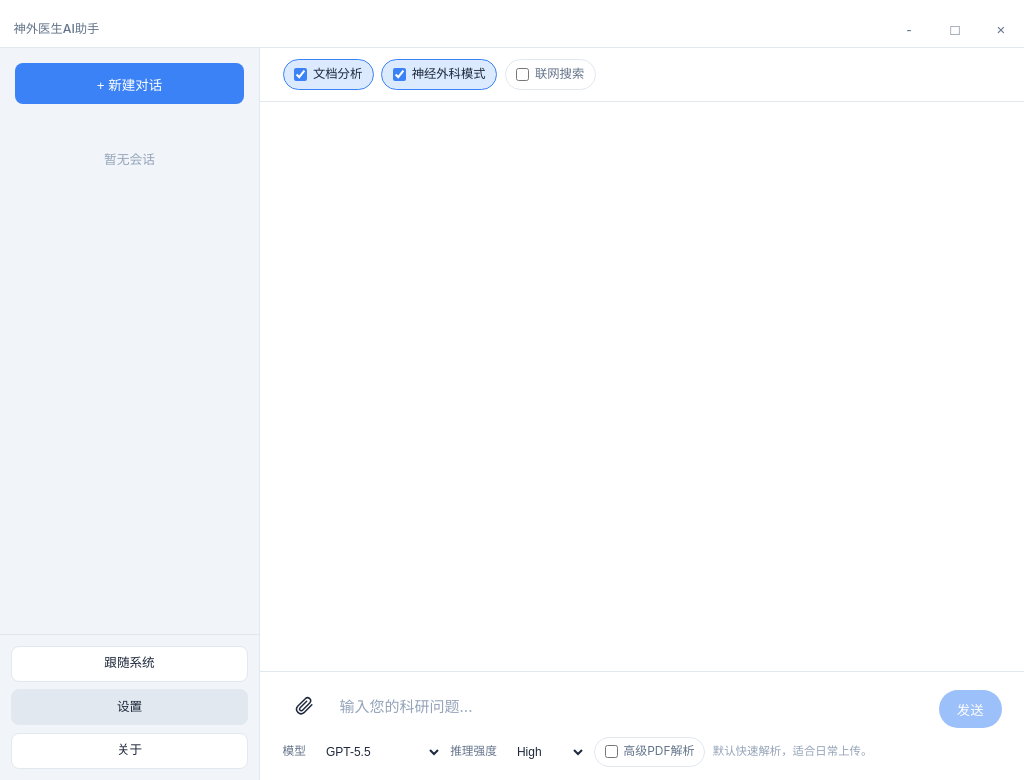
Scenario: App settings controls › shows Chinese PubMed query guidance when searching from a Chinese question
Click the text "联网搜索" at (550, 74), box [504, 59, 596, 90]
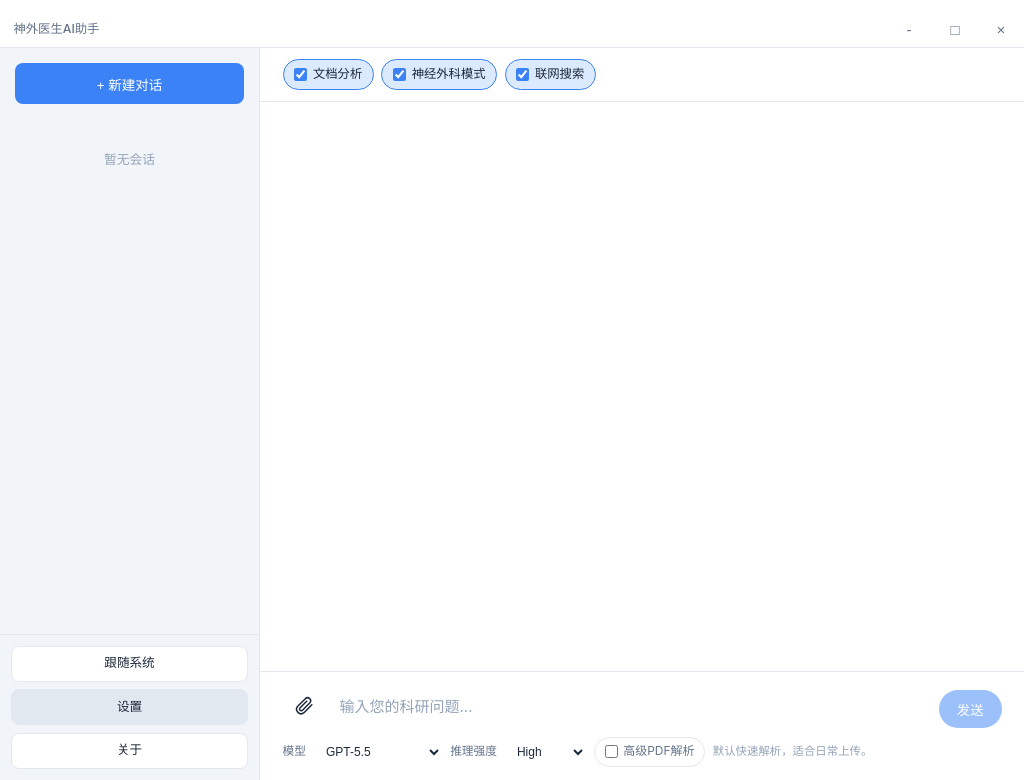
Type "胶质母细胞瘤复发治疗进展" into the text box with placeholder "输入您的科研问题..." at (632, 706), box [332, 684, 931, 728]
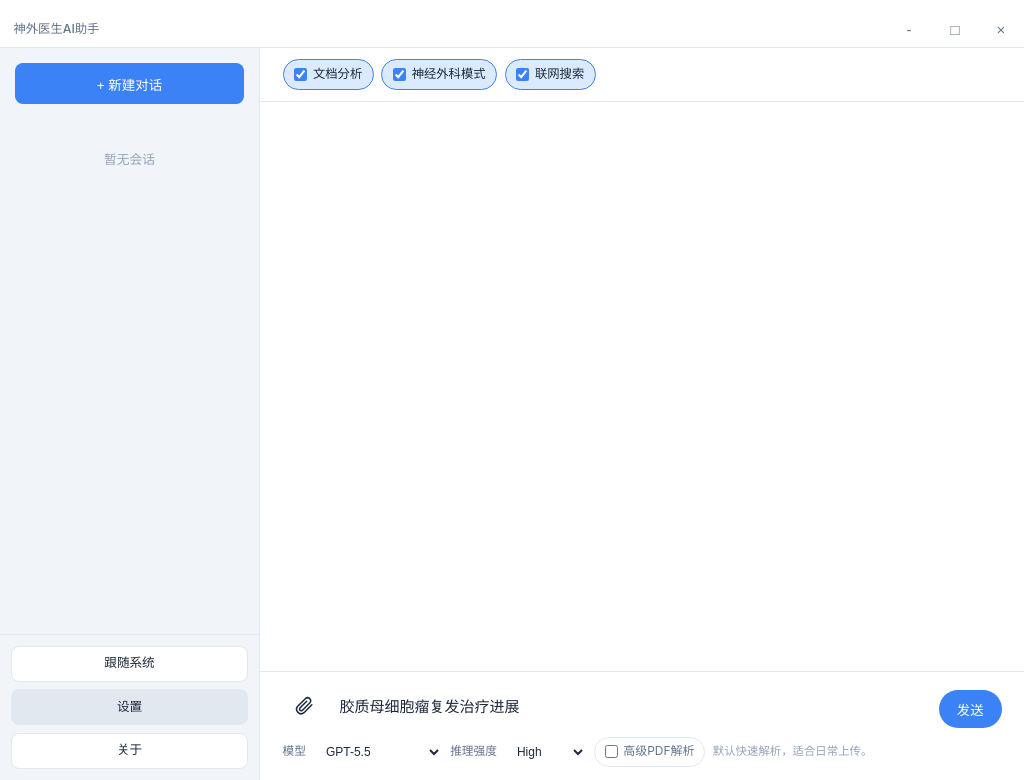
Click the button "发送" at (970, 709), box [939, 690, 1002, 728]
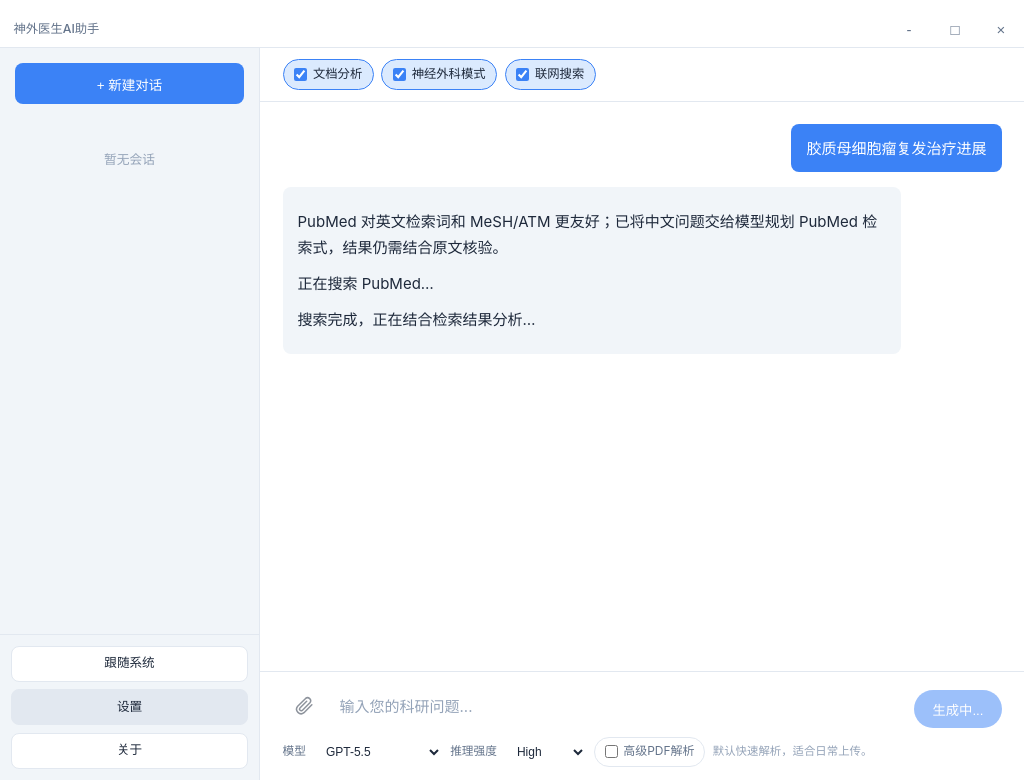
Expected: the text "模型规划 PubMed 检索式" is shown, [298, 212, 877, 257]
